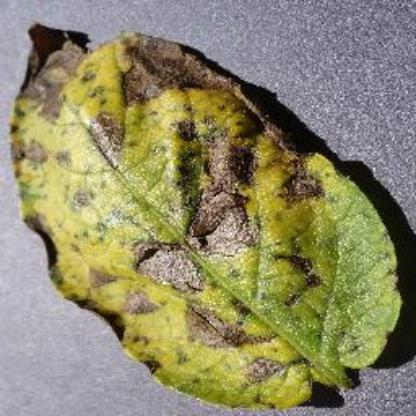Early-Blight: (10, 22, 404, 408)
